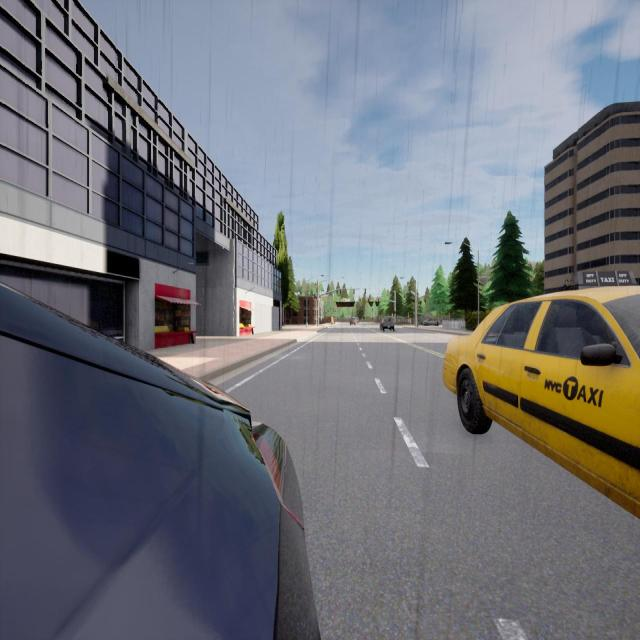Vehicle: (0, 287, 319, 640), (443, 286, 639, 517), (380, 316, 395, 332), (423, 318, 439, 327), (350, 317, 356, 326)
traffic_light: (359, 298, 361, 302), (394, 310, 396, 314), (365, 289, 366, 294), (340, 290, 341, 294), (368, 298, 369, 302), (378, 298, 378, 302), (354, 289, 354, 294)
